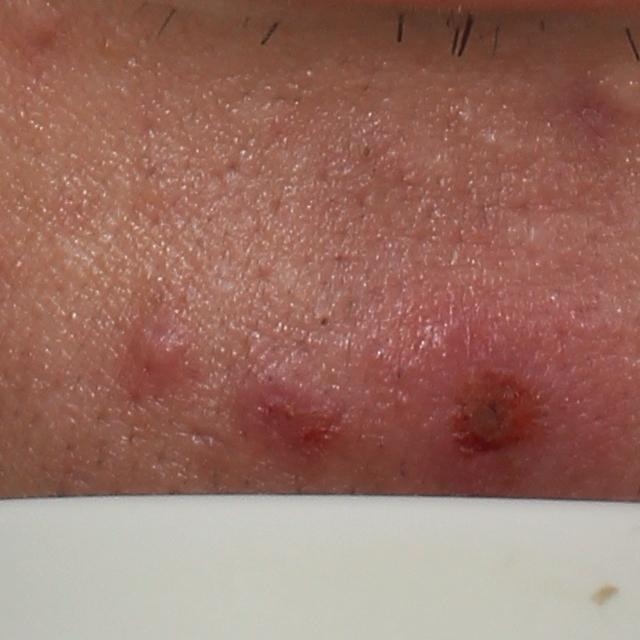comedo: (352, 133, 377, 166), (316, 313, 336, 331)
hypertrophic_scar: (51, 242, 102, 288)
papule: (228, 359, 322, 455), (125, 319, 191, 396)
